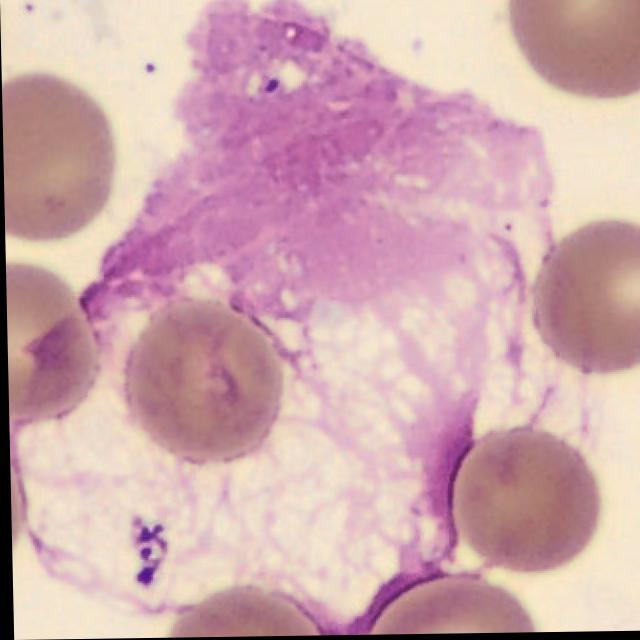Artefato: (11, 0, 594, 636)
